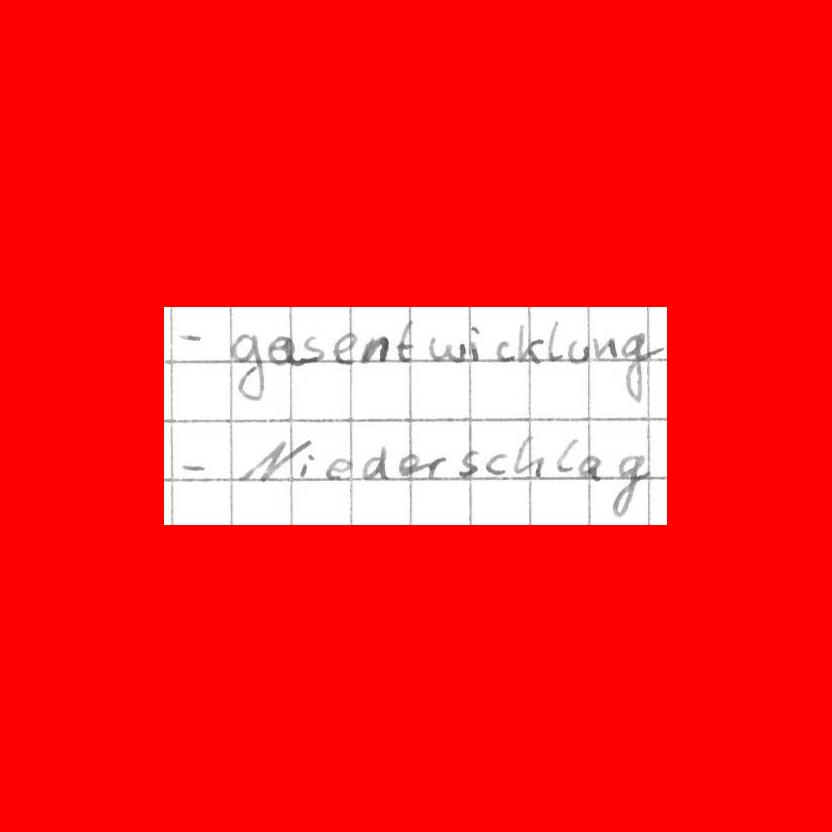Char: (238, 439, 307, 482), (610, 453, 649, 517), (229, 331, 264, 402), (621, 329, 650, 403), (511, 434, 547, 478), (519, 322, 546, 364), (361, 443, 391, 480), (429, 335, 467, 364), (360, 332, 390, 364), (267, 333, 295, 367), (331, 330, 357, 364), (395, 318, 414, 363), (297, 334, 324, 364), (556, 438, 578, 473), (578, 454, 607, 480), (418, 453, 448, 478), (457, 446, 481, 477), (593, 335, 619, 361), (549, 319, 564, 362), (395, 452, 418, 480), (325, 457, 353, 479), (484, 453, 509, 477), (493, 337, 516, 362), (469, 325, 484, 361), (567, 337, 588, 362), (298, 452, 315, 480), (182, 459, 208, 476), (181, 330, 205, 347)
